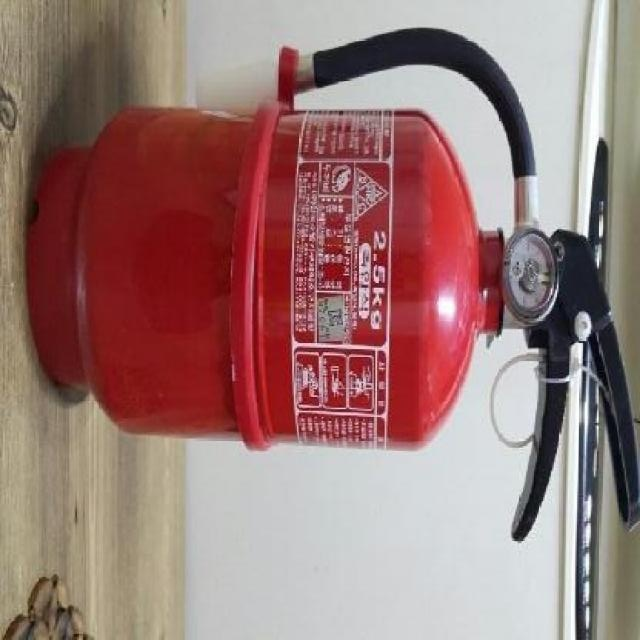fire extinguisher: (29, 27, 640, 544)
